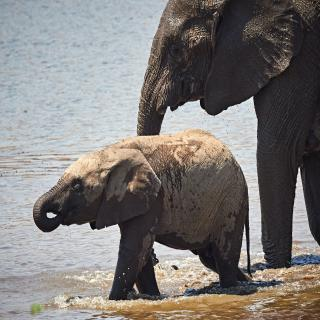Elephant: (30, 129, 260, 302)
